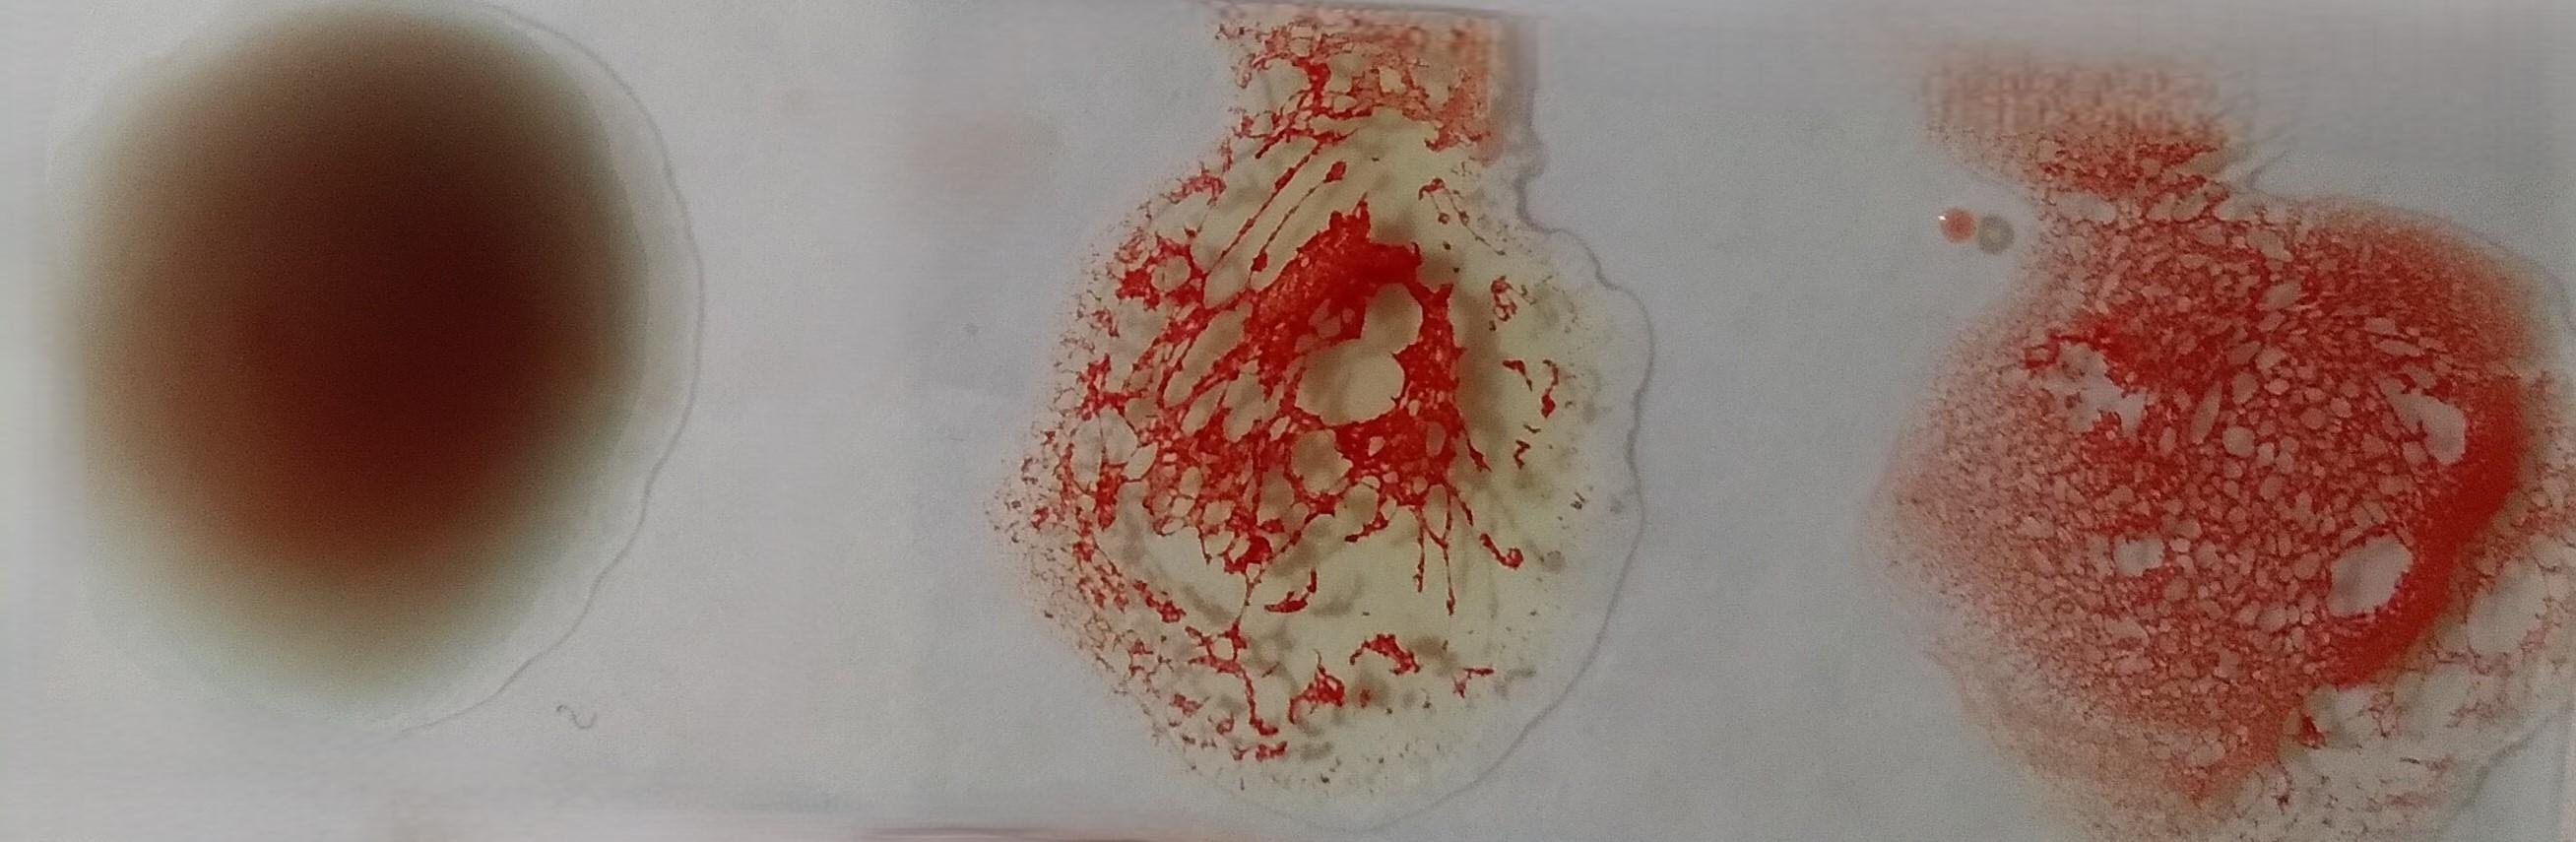B: (1060, 35, 1590, 803)
D: (1955, 127, 2523, 842)
